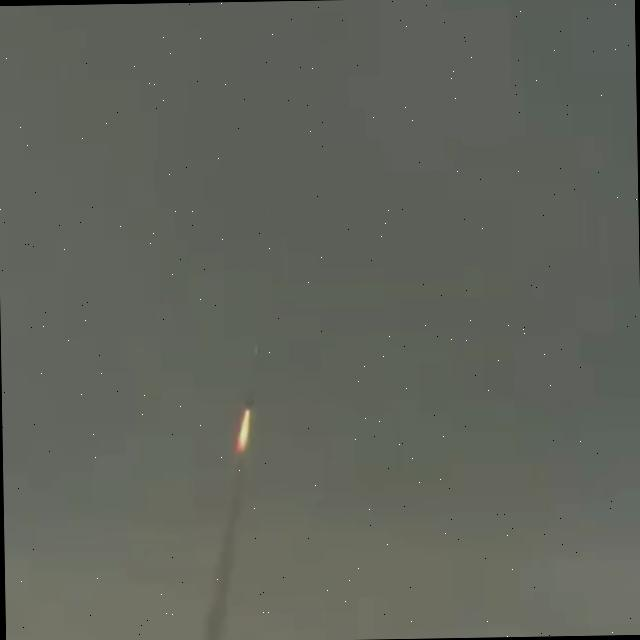smoke_trail_with_rocket: (200, 346, 263, 640)
